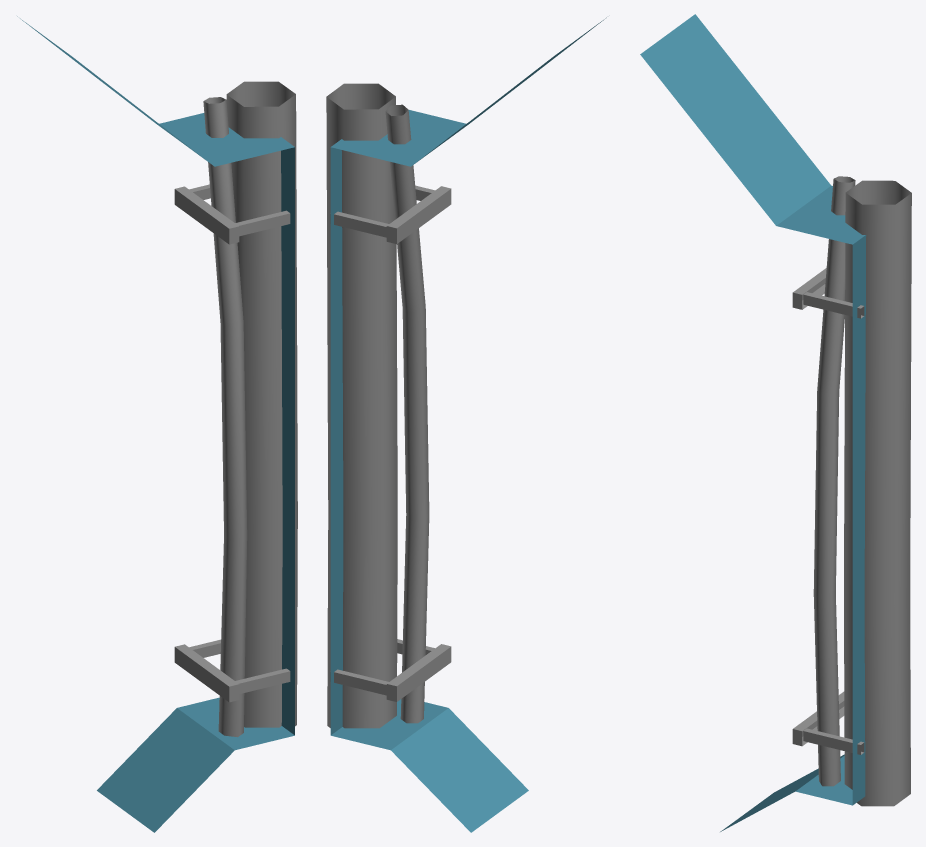
File: way construct wall 05.FBX
3 renders of one model, left to right at view 1: azimuth 30°, elevation 25°; view 2: azimuth 150°, elevation 25°; view 3: azimuth 330°, elevation 25°, orthographic. The views are drawn at different scales.
Parts seen in each view (by area): view 1: Object1221333; view 2: Object1221333; view 3: Object1221333.
Boxes of the visible parts, bbox=[...] form: Object1221333: bbox=[17, 16, 297, 832]; Object1221333: bbox=[326, 17, 606, 832]; Object1221333: bbox=[640, 14, 911, 831].
Bounding box in the file's own units: 1.22 × 3.79 × 0.4999.
